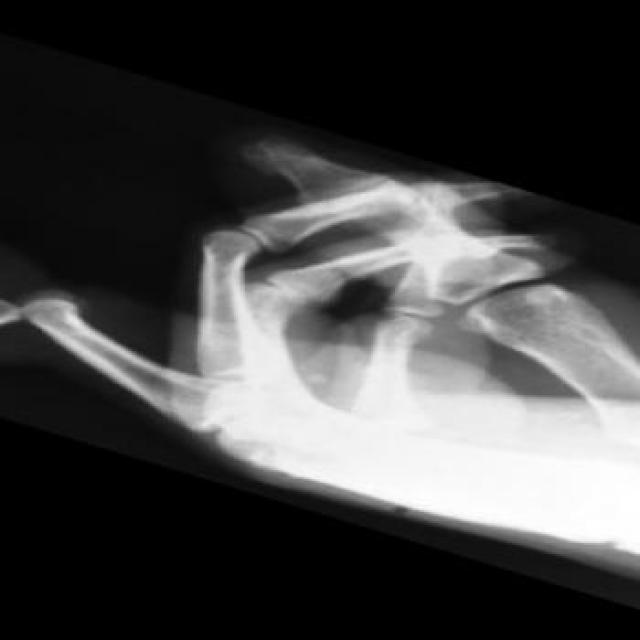fracture: (0, 285, 71, 340)
